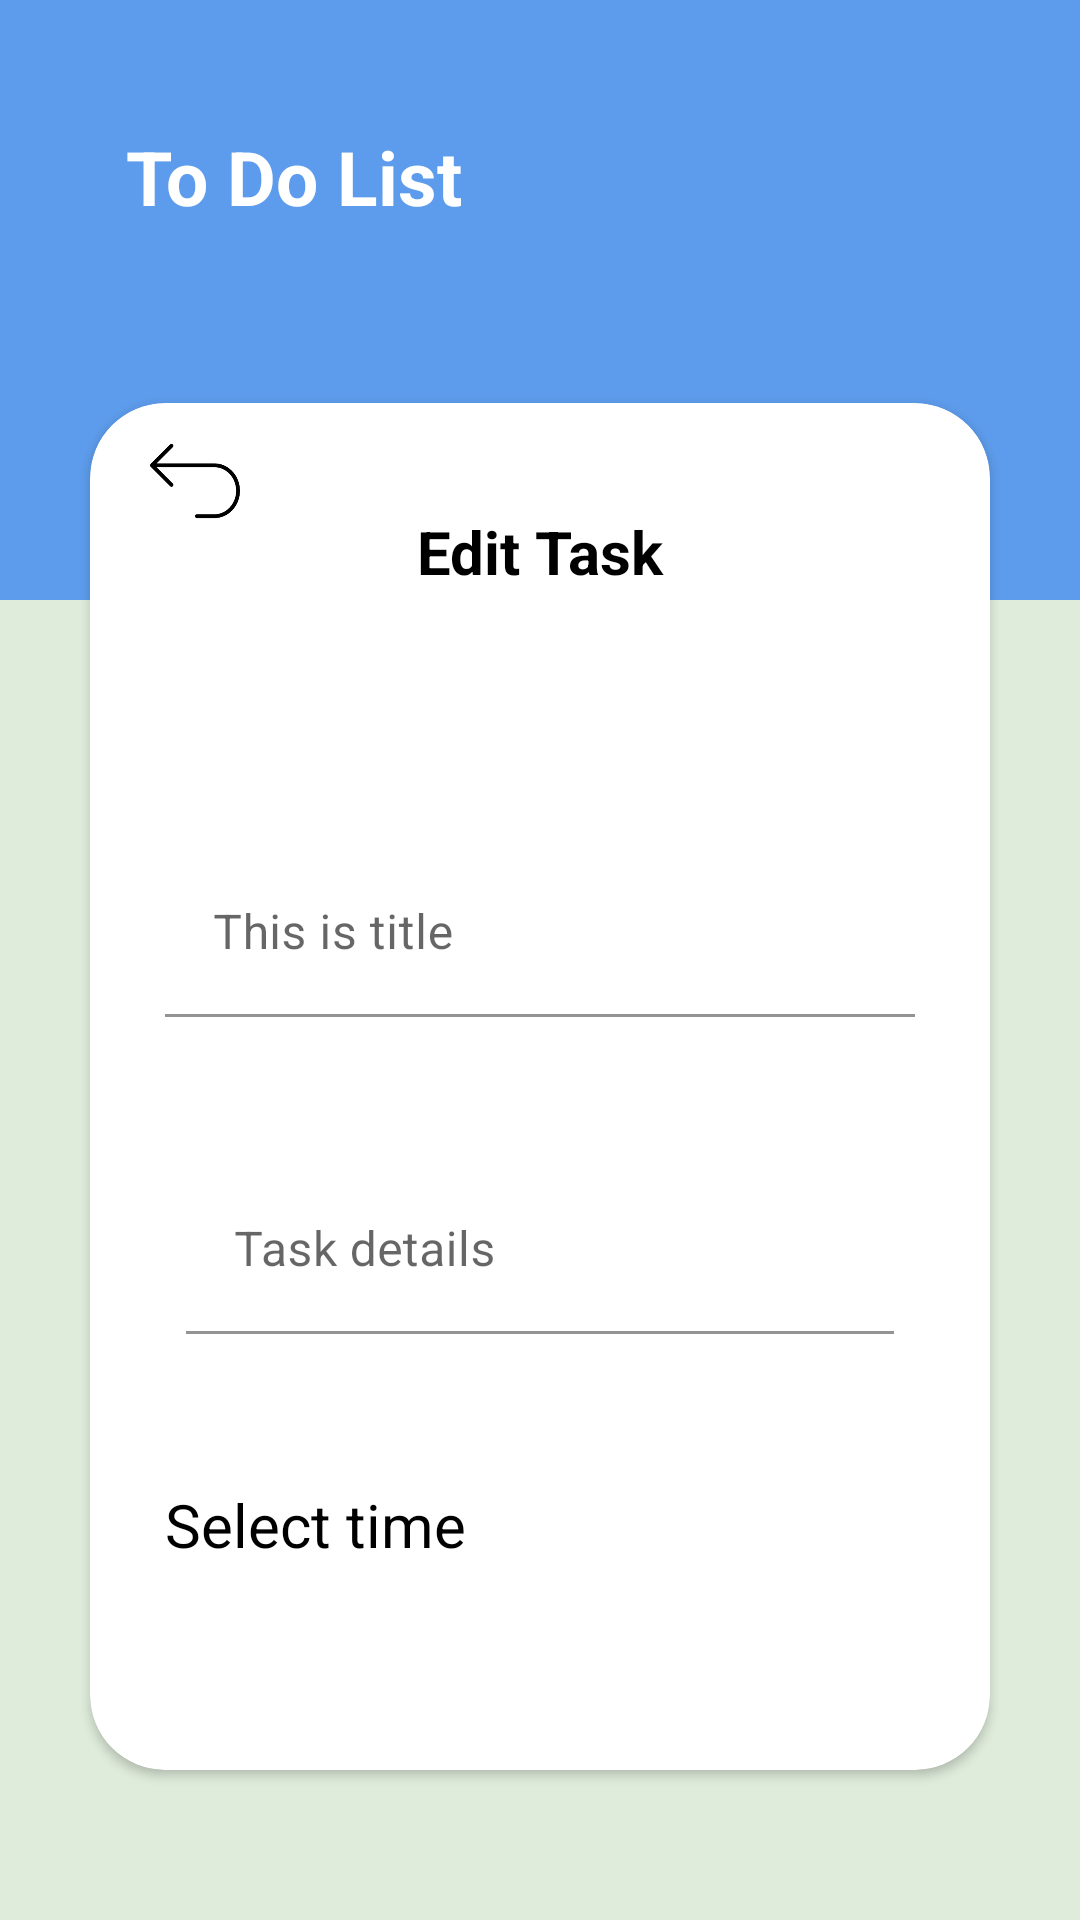

Point at icon controls on the screen. Image size 1080px×1920px, points as point (x, y).
back: point (195, 481)
